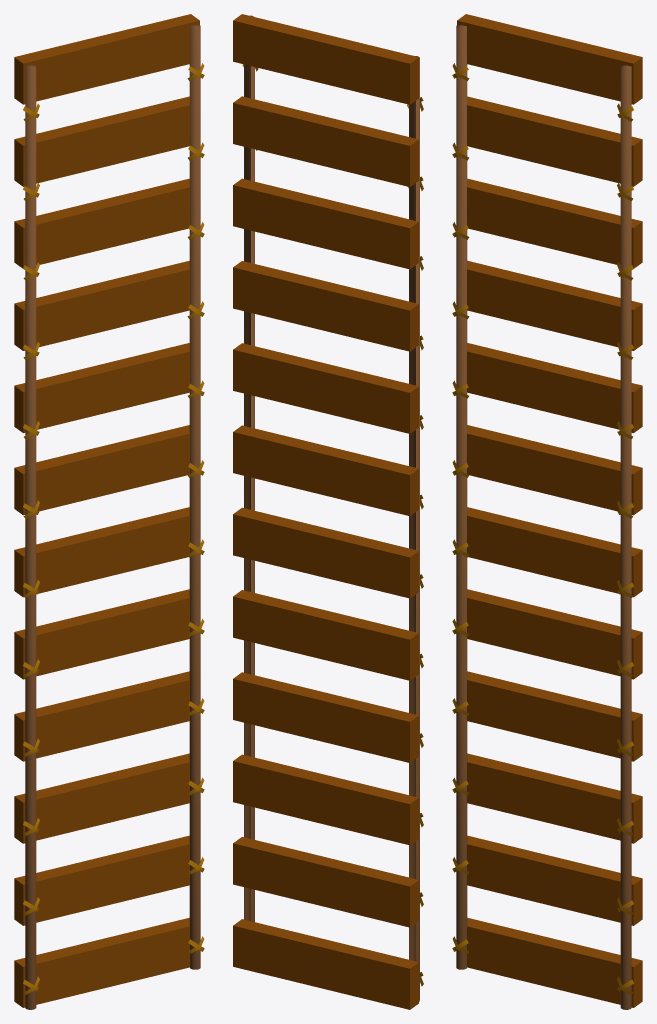
Rendered from SM_Ladder_1.fbx.
3 renders of one model, left to right at view 1: azimuth 30°, elevation 25°; view 2: azimuth 150°, elevation 25°; view 3: azimuth 330°, elevation 25°, orthographic.
Visible parts, largest first — view 1: Ladder_Test; view 2: Ladder_Test; view 3: Ladder_Test.
Part boxes in pixels (x1,y1,x2,y2): Ladder_Test: [14, 14, 204, 1009]; Ladder_Test: [233, 14, 423, 1009]; Ladder_Test: [452, 14, 642, 1009].
Size of the model in its own units: 0.3901 by 1.94 by 0.0551.
